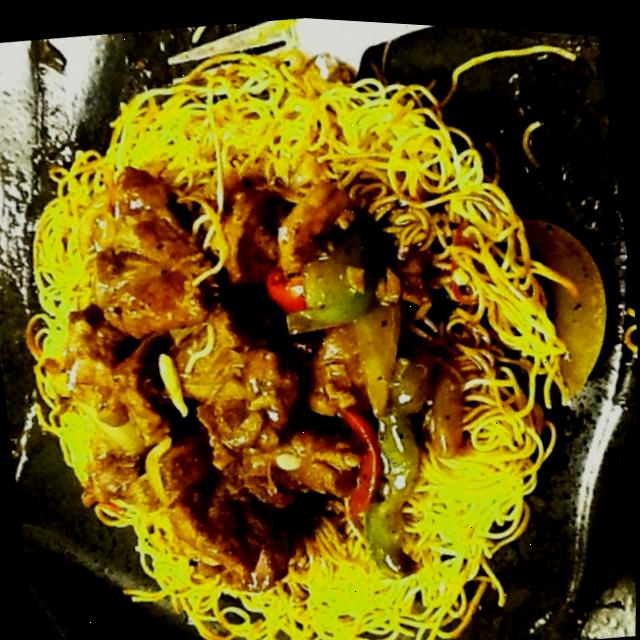面条主食: (0, 5, 614, 640)
